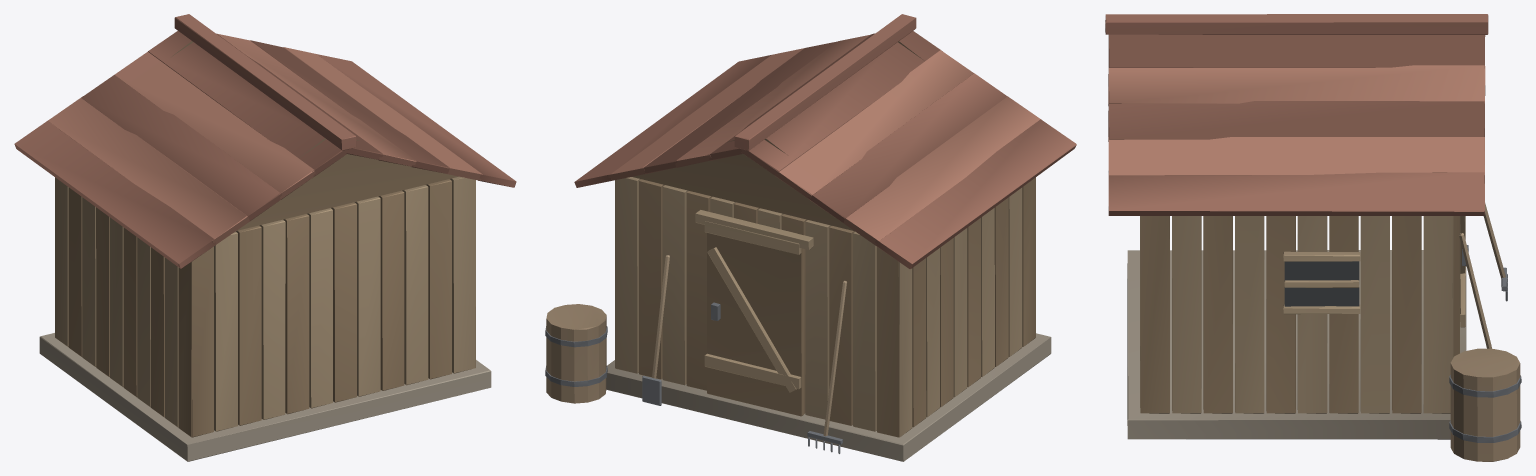
Rendered from farm_shed_low.glb.
3 views of the same model, side by side, from view 1: azimuth 30°, elevation 25°; view 2: azimuth 150°, elevation 25°; view 3: azimuth 270°, elevation 25° (orthographic). The views are drawn at different scales.
Bounding box in the file's own units: 3.81 × 2.96 × 3.31.
